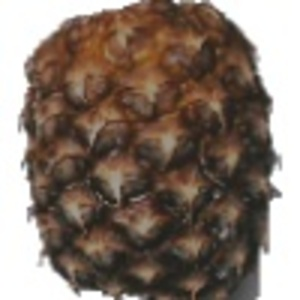abacaxi: (18, 3, 283, 294)
